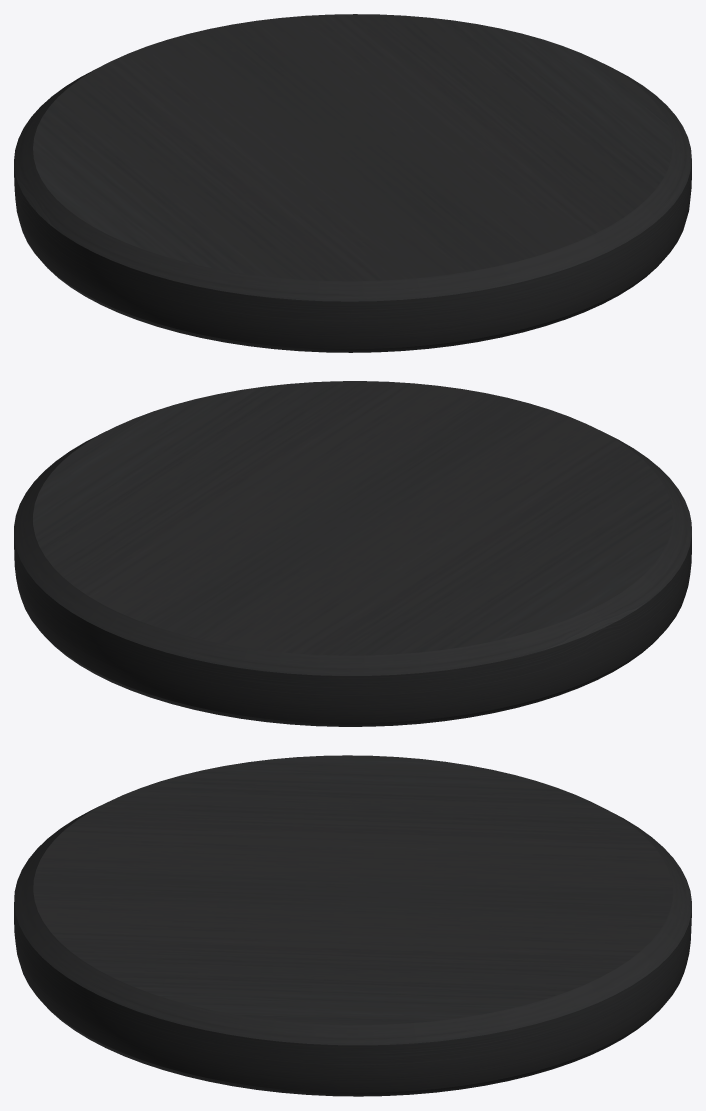
File: clock1_hands_5.glb
The picture shows the model from 3 angles, top to bottom: view 1: azimuth 30°, elevation 25°; view 2: azimuth 150°, elevation 25°; view 3: azimuth 270°, elevation 25°; orthographic projection.
Parts seen in each view (by area): view 1: shell; view 2: shell; view 3: shell.
Part boxes in pixels (x1,y1,x2,y2): shell: [14, 14, 691, 352]; shell: [14, 381, 691, 726]; shell: [14, 755, 691, 1096].
Size of what is drawn, in the model's own units: 0.8899 by 0.1069 by 0.89.
Materials: 5 (2 with a texture image).
